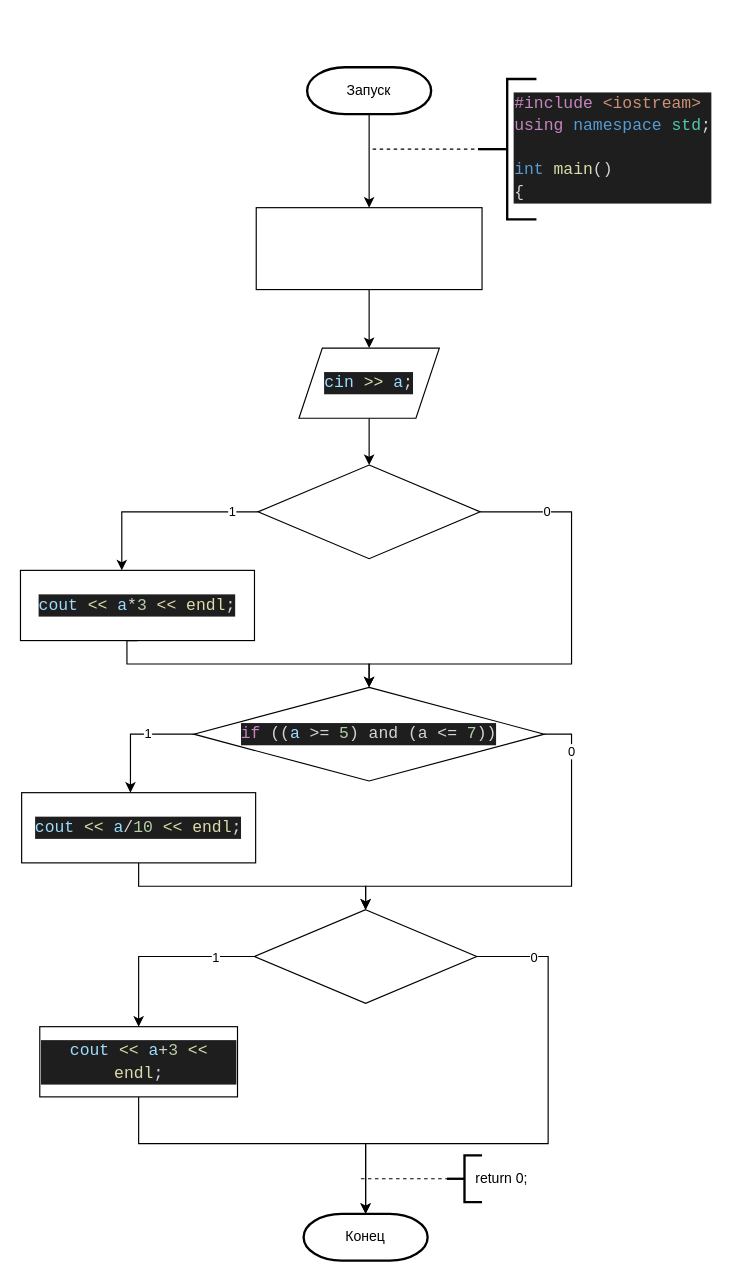
Image size: 732x1281. Some labels were removed from this diagram. Each missing label, with the centre of its shape:
float a;: point 368,248
if ( a < 5 ): point 368,511
if ( a > 7 ): point 365,956
